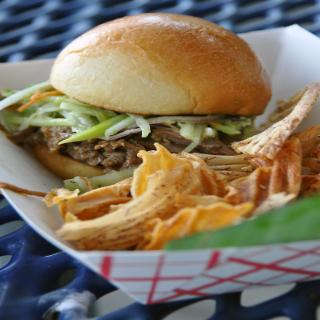Hamburger: (0, 11, 271, 176)
